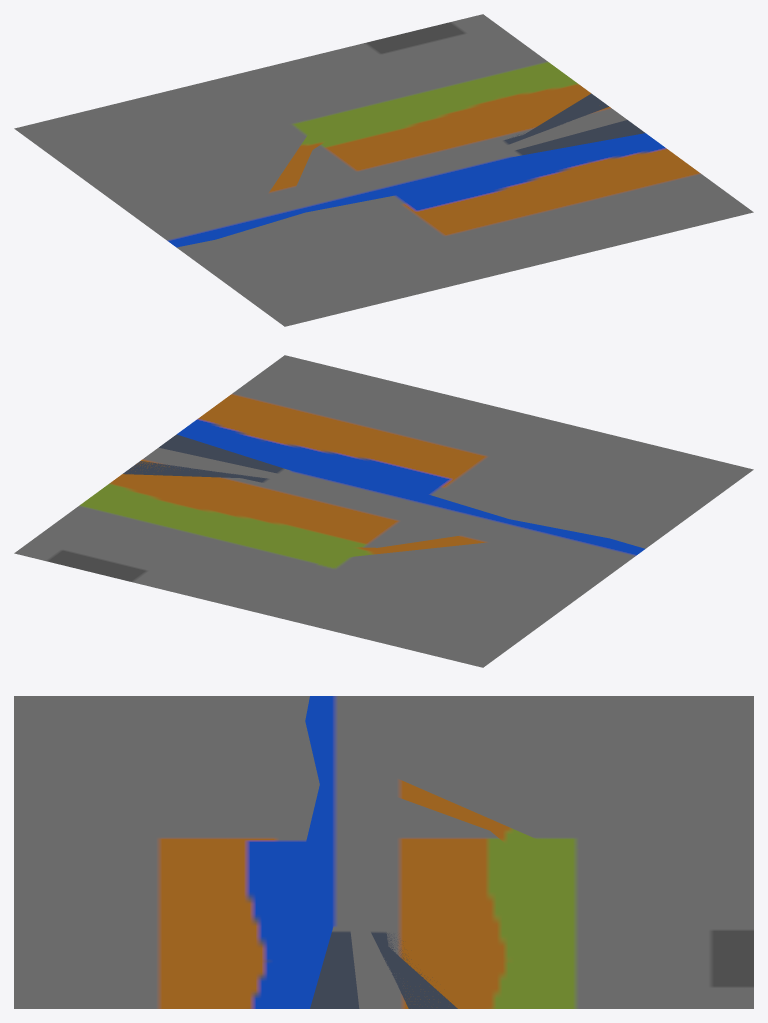
File: Ground_Grass02.FBX
3 views of the same model, one above another, from view 1: azimuth 30°, elevation 25°; view 2: azimuth 150°, elevation 25°; view 3: azimuth 270°, elevation 25° (orthographic). The views are drawn at different scales.
Visible parts, largest first — view 1: Ground_Grass03, Ground_Grass05, Ground_Grass04, Ground_Grass01; view 2: Ground_Grass03, Ground_Grass05, Ground_Grass01, Ground_Grass04; view 3: Ground_Grass03, Ground_Grass05, Ground_Grass04, Ground_Grass01.
Part boxes in pixels (x1=…): Ground_Grass03: x1=159, y1=120, x2=753, y2=326; Ground_Grass05: x1=160, y1=14, x2=608, y2=233; Ground_Grass04: x1=14, y1=16, x2=569, y2=234; Ground_Grass01: x1=191, y1=106, x2=627, y2=159; Ground_Grass03: x1=159, y1=355, x2=753, y2=561; Ground_Grass05: x1=14, y1=461, x2=626, y2=606; Ground_Grass01: x1=133, y1=447, x2=613, y2=667; Ground_Grass04: x1=221, y1=472, x2=627, y2=666; Ground_Grass03: x1=14, y1=696, x2=359, y2=1008; Ground_Grass05: x1=338, y1=696, x2=753, y2=1008; Ground_Grass04: x1=348, y1=696, x2=753, y2=1005; Ground_Grass01: x1=349, y1=698, x2=749, y2=1008.
Bounding box in the file's own units: 300 × 0.000264 × 300.
1 material, 1 textured.
